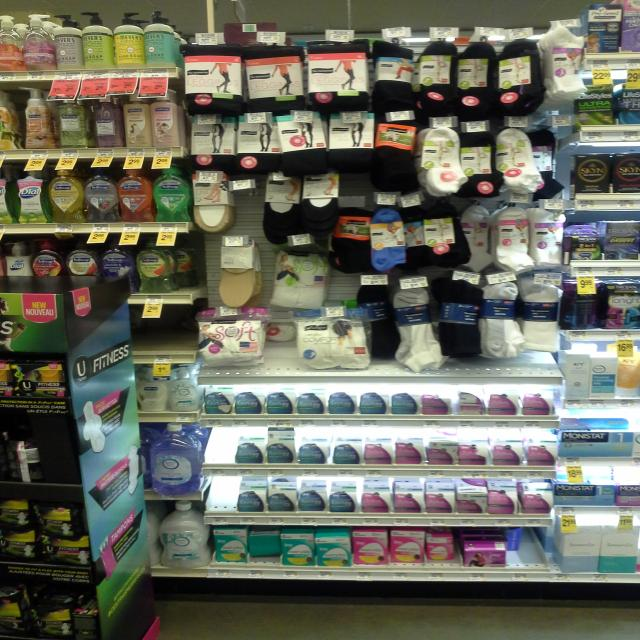empty: (137, 299, 194, 352), (203, 471, 240, 514), (519, 523, 544, 570), (208, 424, 233, 463)
